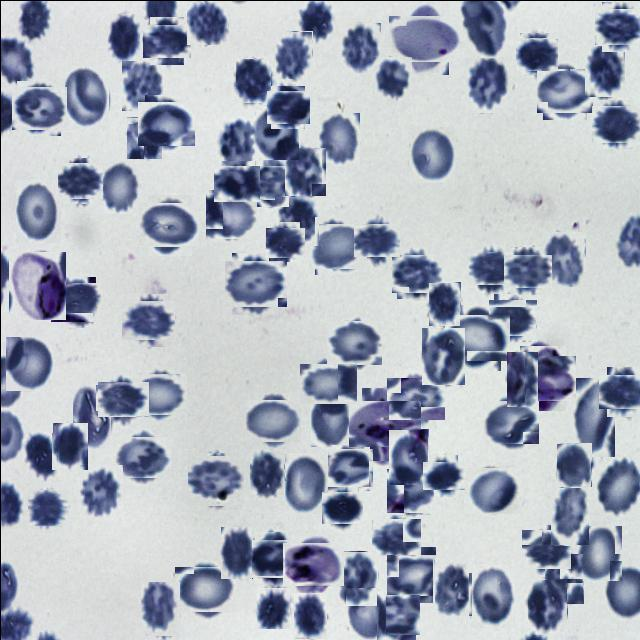red blood cell: (572, 377, 614, 456), (449, 309, 505, 365), (188, 453, 242, 508), (228, 256, 282, 310), (178, 562, 232, 616), (469, 563, 514, 627), (64, 65, 108, 128), (15, 179, 59, 242), (142, 198, 195, 250), (284, 452, 328, 514), (311, 219, 363, 271), (466, 464, 518, 516), (538, 66, 590, 116), (140, 98, 192, 148), (5, 336, 52, 391), (408, 126, 454, 182), (576, 524, 622, 580), (72, 383, 111, 448), (116, 432, 166, 482), (13, 82, 63, 132), (485, 396, 535, 446), (329, 317, 379, 367), (390, 374, 440, 424), (542, 230, 586, 286), (596, 458, 640, 514), (421, 327, 464, 384), (248, 396, 298, 445), (207, 190, 256, 240), (464, 57, 508, 112), (254, 104, 298, 159), (389, 550, 438, 599), (78, 464, 122, 517), (432, 558, 472, 616), (318, 111, 360, 166), (135, 369, 183, 417), (304, 359, 352, 407), (336, 550, 377, 605), (388, 428, 428, 484), (527, 578, 567, 634), (550, 488, 588, 546), (121, 60, 165, 110), (100, 159, 140, 213), (274, 196, 318, 245), (337, 22, 380, 72), (310, 393, 350, 446), (344, 587, 384, 640), (250, 534, 296, 580), (372, 516, 418, 562), (124, 296, 170, 342), (387, 467, 433, 513), (140, 581, 179, 635), (393, 250, 438, 296), (284, 146, 326, 195), (584, 45, 624, 96), (53, 279, 98, 324), (524, 526, 568, 572), (544, 552, 583, 603), (593, 101, 637, 146), (100, 376, 144, 421), (373, 592, 417, 637), (218, 117, 255, 168), (186, 0, 228, 44), (598, 4, 640, 47), (506, 350, 538, 406), (275, 30, 312, 78), (490, 296, 532, 338), (329, 446, 371, 488), (372, 56, 411, 100), (220, 525, 252, 578), (50, 422, 86, 469), (250, 162, 292, 202), (146, 20, 187, 60), (216, 163, 256, 204), (507, 250, 548, 290), (106, 12, 140, 60), (23, 432, 57, 480), (235, 57, 271, 102), (60, 160, 100, 200), (356, 220, 396, 260), (603, 369, 640, 412), (556, 442, 591, 486), (249, 449, 283, 494), (28, 487, 67, 526), (293, 592, 326, 638), (126, 116, 162, 158), (471, 248, 508, 288), (516, 34, 554, 72), (268, 88, 306, 126), (297, 0, 332, 41), (256, 586, 290, 628), (428, 281, 460, 325), (323, 488, 360, 526), (266, 223, 302, 260), (424, 458, 460, 492)
ring: (394, 8, 454, 68)
trophozoite: (6, 251, 64, 319), (354, 394, 414, 453), (514, 350, 570, 406), (286, 537, 338, 590)
